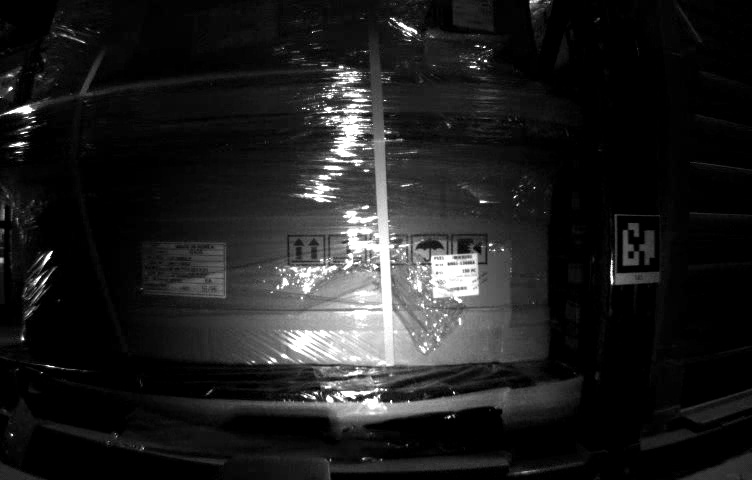True Barcode: (429, 254, 480, 296)
